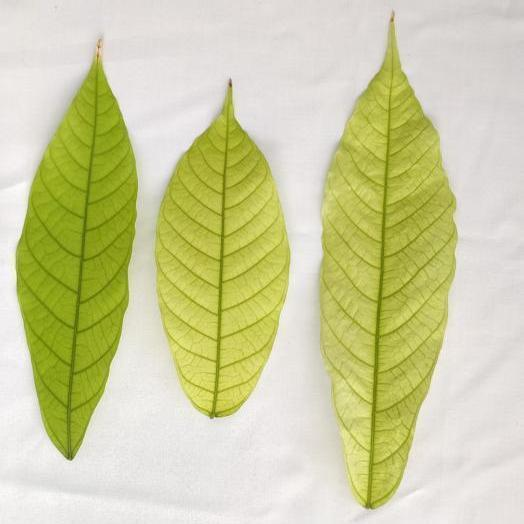Iron: (321, 15, 456, 508), (17, 40, 136, 459), (156, 82, 289, 417)
